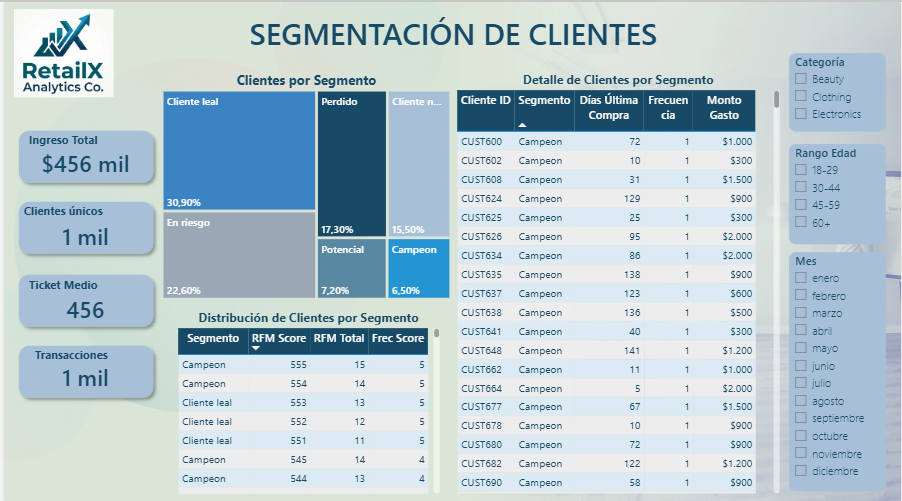

Layout of this report page (visuals, bound fields, positions):
{"tool":"powerbi","page":{"name":"Segmentacion RFM","canvas":[1280,720],"ordinal":2},"visuals":[{"type":"image","box":[13.9,9.7,141.8,126.5],"z":0},{"type":"treemap","title":"Clientes por Segmento","fields":{"Group":["rfm_segmentado.segmento"],"Values":["Divide(CountNonNull(rfm_segmentado.Customer ID), ScopedEval(CountNonNull(rfm_segmentado.Customer ID), []))"]},"box":[222.4,93.3,417.6,334.3],"z":1000},{"type":"tableEx","title":"Detalle de Clientes por Segmento","fields":{"Values":["rfm_segmentado.Customer ID","rfm_segmentado.segmento","rfm_segmentado.recency","rfm_segmentado.frequency","rfm_segmentado.monetary"]},"box":[640,93.3,466.4,612.7],"z":2000},{"type":"tableEx","title":"Distribución de Clientes por Segmento","fields":{"Values":["rfm_segmentado.segmento","rfm_segmentado.RFM_score","rfm_segmentado.RFM_total","rfm_segmentado.F_score"]},"box":[242.5,431.9,378.8,274.1],"z":3000},{"type":"slicer","fields":{"Values":["retail_sales.date.Variación.Jerarquía de fechas.Mes"]},"box":[1118.9,355.8,137.6,340.5],"z":4000},{"type":"slicer","fields":{"Values":["vw_rfm_base.age_group"]},"box":[1118.9,202.9,137.6,143.2],"z":5000},{"type":"slicer","fields":{"Values":["retail_sales.product_category"]},"box":[1119.3,73.2,137.8,111.9],"z":6000},{"type":"shape","box":[11.1,378.7,210.9,93.3],"z":7000},{"type":"shape","box":[11.1,275.6,210.9,93.3],"z":8000},{"type":"shape","box":[11.1,480.8,210.9,93.3],"z":9000},{"type":"shape","box":[11.1,173.7,210.9,93.3],"z":10000},{"type":"cardVisual","fields":{"Data":["Cálculos.Ingreso Total"]},"box":[22.6,199.5,188,57.4],"z":11000},{"type":"cardVisual","fields":{"Data":["Cálculos.Clientes Unicos"]},"box":[22.6,301.4,188,60.3],"z":12000},{"type":"cardVisual","fields":{"Data":["Cálculos.Ticket Promedio"]},"box":[22.6,407.6,188,57.4],"z":13000},{"type":"cardVisual","fields":{"Data":["Cálculos.Total Transacciones"]},"box":[22.6,505.2,188,57.4],"z":14000},{"type":"textbox","box":[11.1,180.9,146.4,40.2],"z":15000},{"type":"textbox","box":[11.1,282.8,146.4,40.2],"z":16000},{"type":"textbox","box":[11.1,387.5,146.4,40.2],"z":17000},{"type":"textbox","box":[22.6,488,146.4,40.2],"z":18000},{"type":"textbox","box":[328.6,9.7,622.7,73.7],"z":19000}]}

Visuals, with their boxes in screenshot pixels (x1, y1, x2, y2), scaled from the page's 1280x720 canvas onto the 902x501 screenshot:
image: BBox(10, 7, 110, 95)
"Clientes por Segmento" treemap: BBox(157, 65, 451, 298)
"Detalle de Clientes por Segmento" tableEx: BBox(451, 65, 780, 491)
"Distribución de Clientes por Segmento" tableEx: BBox(171, 301, 438, 491)
slicer - retail_sales.date.Variación.Jerarquía de fechas.Mes: BBox(788, 248, 885, 485)
slicer - vw_rfm_base.age_group: BBox(788, 141, 885, 241)
slicer - retail_sales.product_category: BBox(789, 51, 886, 129)
shape: BBox(8, 264, 156, 328)
shape: BBox(8, 192, 156, 257)
shape: BBox(8, 335, 156, 399)
shape: BBox(8, 121, 156, 186)
cardVisual - Cálculos.Ingreso Total: BBox(16, 139, 148, 179)
cardVisual - Cálculos.Clientes Unicos: BBox(16, 210, 148, 252)
cardVisual - Cálculos.Ticket Promedio: BBox(16, 284, 148, 324)
cardVisual - Cálculos.Total Transacciones: BBox(16, 352, 148, 391)
textbox: BBox(8, 126, 111, 154)
textbox: BBox(8, 197, 111, 225)
textbox: BBox(8, 270, 111, 298)
textbox: BBox(16, 340, 119, 368)
textbox: BBox(232, 7, 670, 58)
